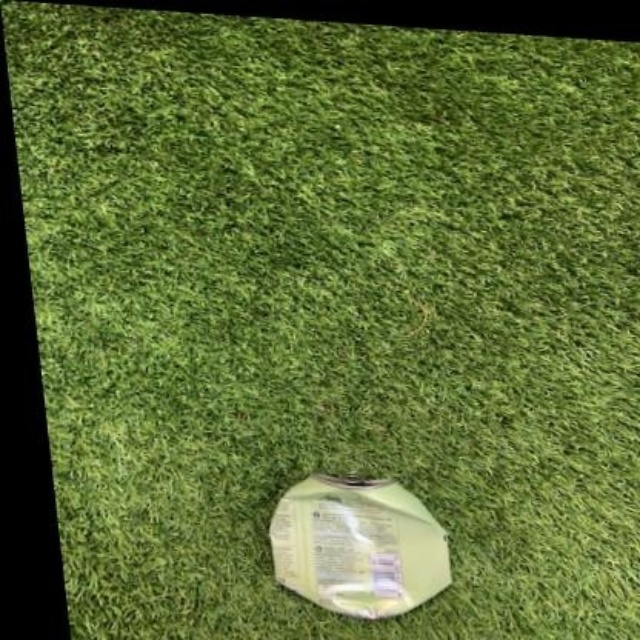trash: (269, 474, 449, 617)
